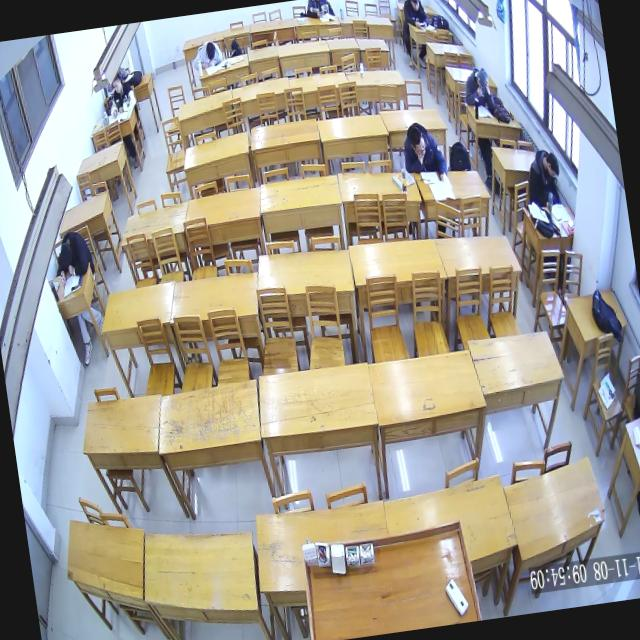bow: (54, 230, 96, 284), (190, 40, 224, 70)
down: (408, 126, 426, 158), (546, 152, 561, 179), (60, 242, 74, 269), (205, 40, 217, 60), (476, 70, 488, 90), (111, 74, 122, 94), (410, 0, 420, 11)
sit: (399, 120, 448, 185), (523, 147, 564, 206), (105, 72, 138, 118), (462, 66, 494, 108), (402, 0, 430, 31)
